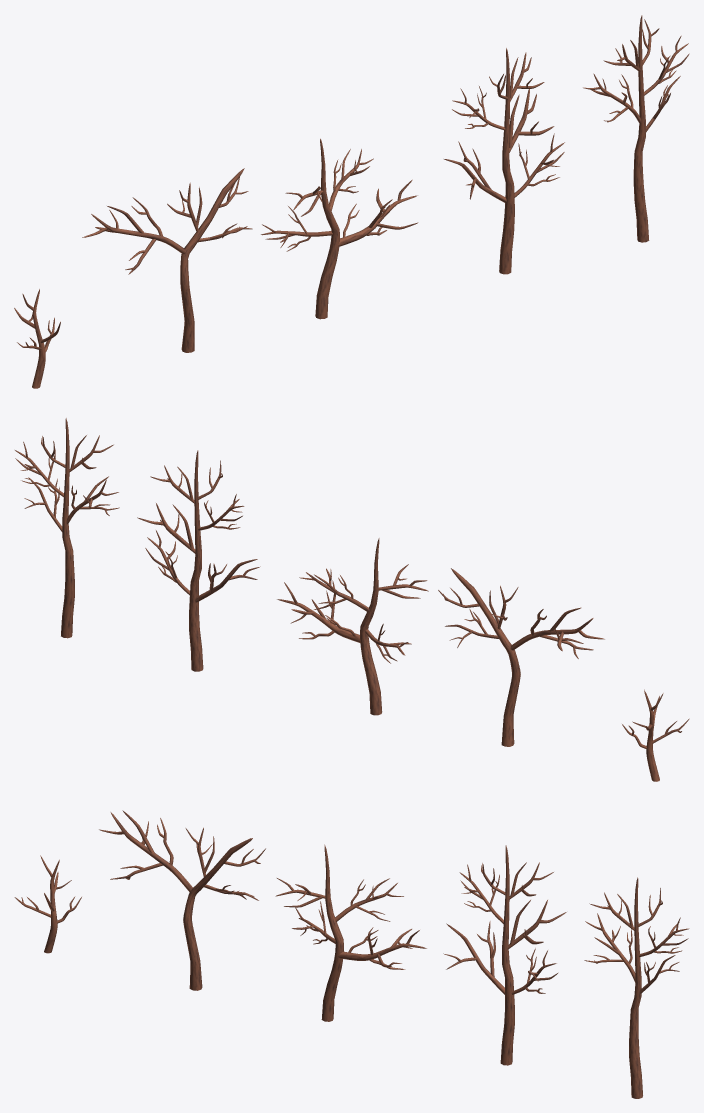
Rendered from DeadTrees.glb.
3 views of the same model, one above another, from view 1: azimuth 30°, elevation 25°; view 2: azimuth 150°, elevation 25°; view 3: azimuth 330°, elevation 25° (orthographic). The views are drawn at different scales.
Parts seen in each view (by area): view 1: DeadTree_2, DeadTree_3, DeadTree_4, DeadTree_1, DeadTree_5; view 2: DeadTree_2, DeadTree_3, DeadTree_1, DeadTree_4, DeadTree_5; view 3: DeadTree_2, DeadTree_3, DeadTree_1, DeadTree_4, DeadTree_5.
Part boxes in pixels (x1,y1,x2,y2): DeadTree_2: [444, 48, 564, 274]; DeadTree_3: [261, 138, 418, 319]; DeadTree_4: [82, 168, 252, 352]; DeadTree_1: [583, 15, 689, 242]; DeadTree_5: [14, 289, 60, 388]; DeadTree_2: [137, 450, 260, 671]; DeadTree_3: [277, 538, 428, 715]; DeadTree_1: [15, 418, 119, 638]; DeadTree_4: [438, 568, 604, 746]; DeadTree_5: [622, 689, 689, 781]; DeadTree_2: [443, 845, 566, 1065]; DeadTree_3: [275, 844, 426, 1021]; DeadTree_1: [584, 877, 689, 1098]; DeadTree_4: [99, 810, 265, 990]; DeadTree_5: [14, 855, 81, 953].
Size of the model in its own units: 19.55 by 6.2 by 1.72.
1 material, 1 textured.
